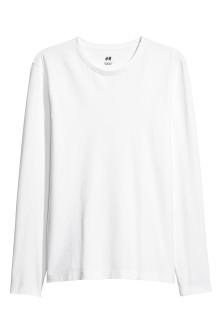teeshirt: (5, 39, 216, 307)
